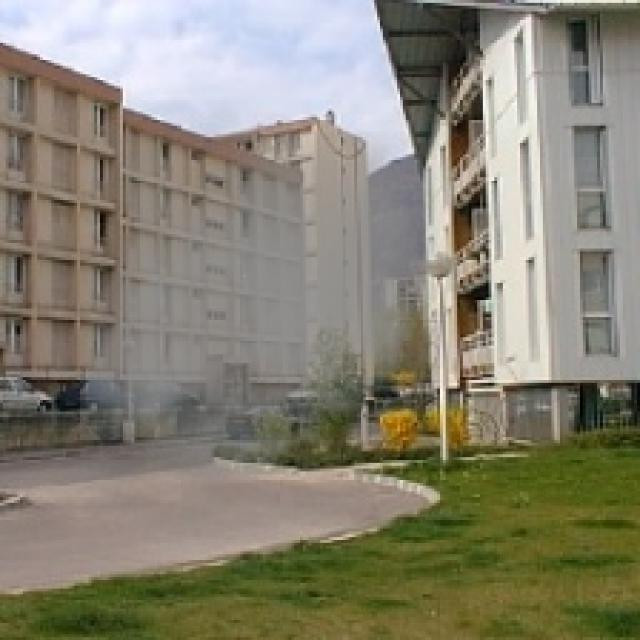smoke: (80, 131, 437, 500)
